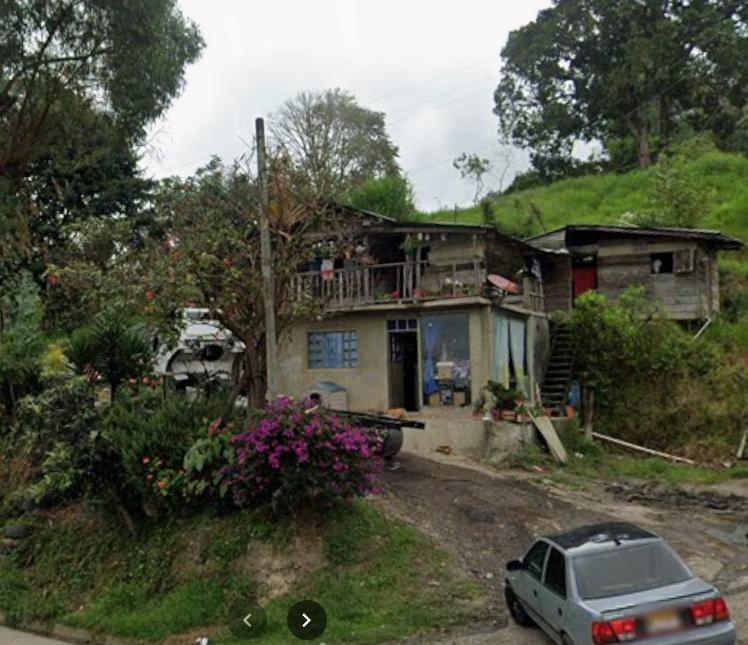casa: (280, 211, 741, 463)
poste: (256, 118, 277, 397)
